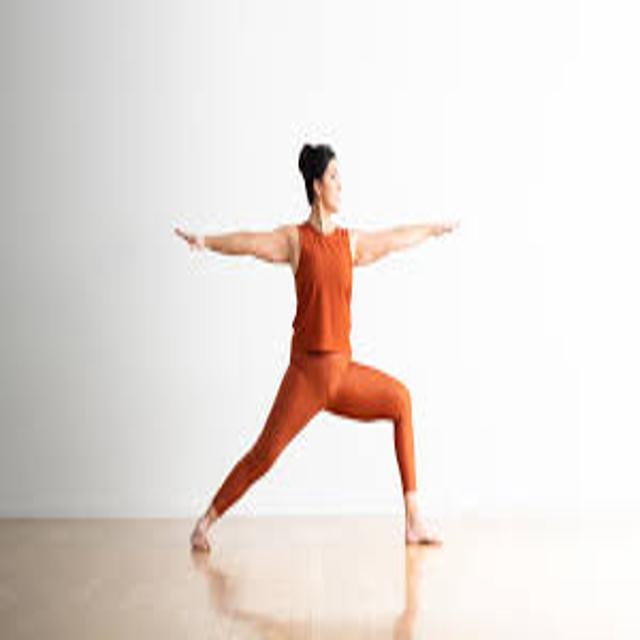Warrior_II: (162, 132, 462, 558)
